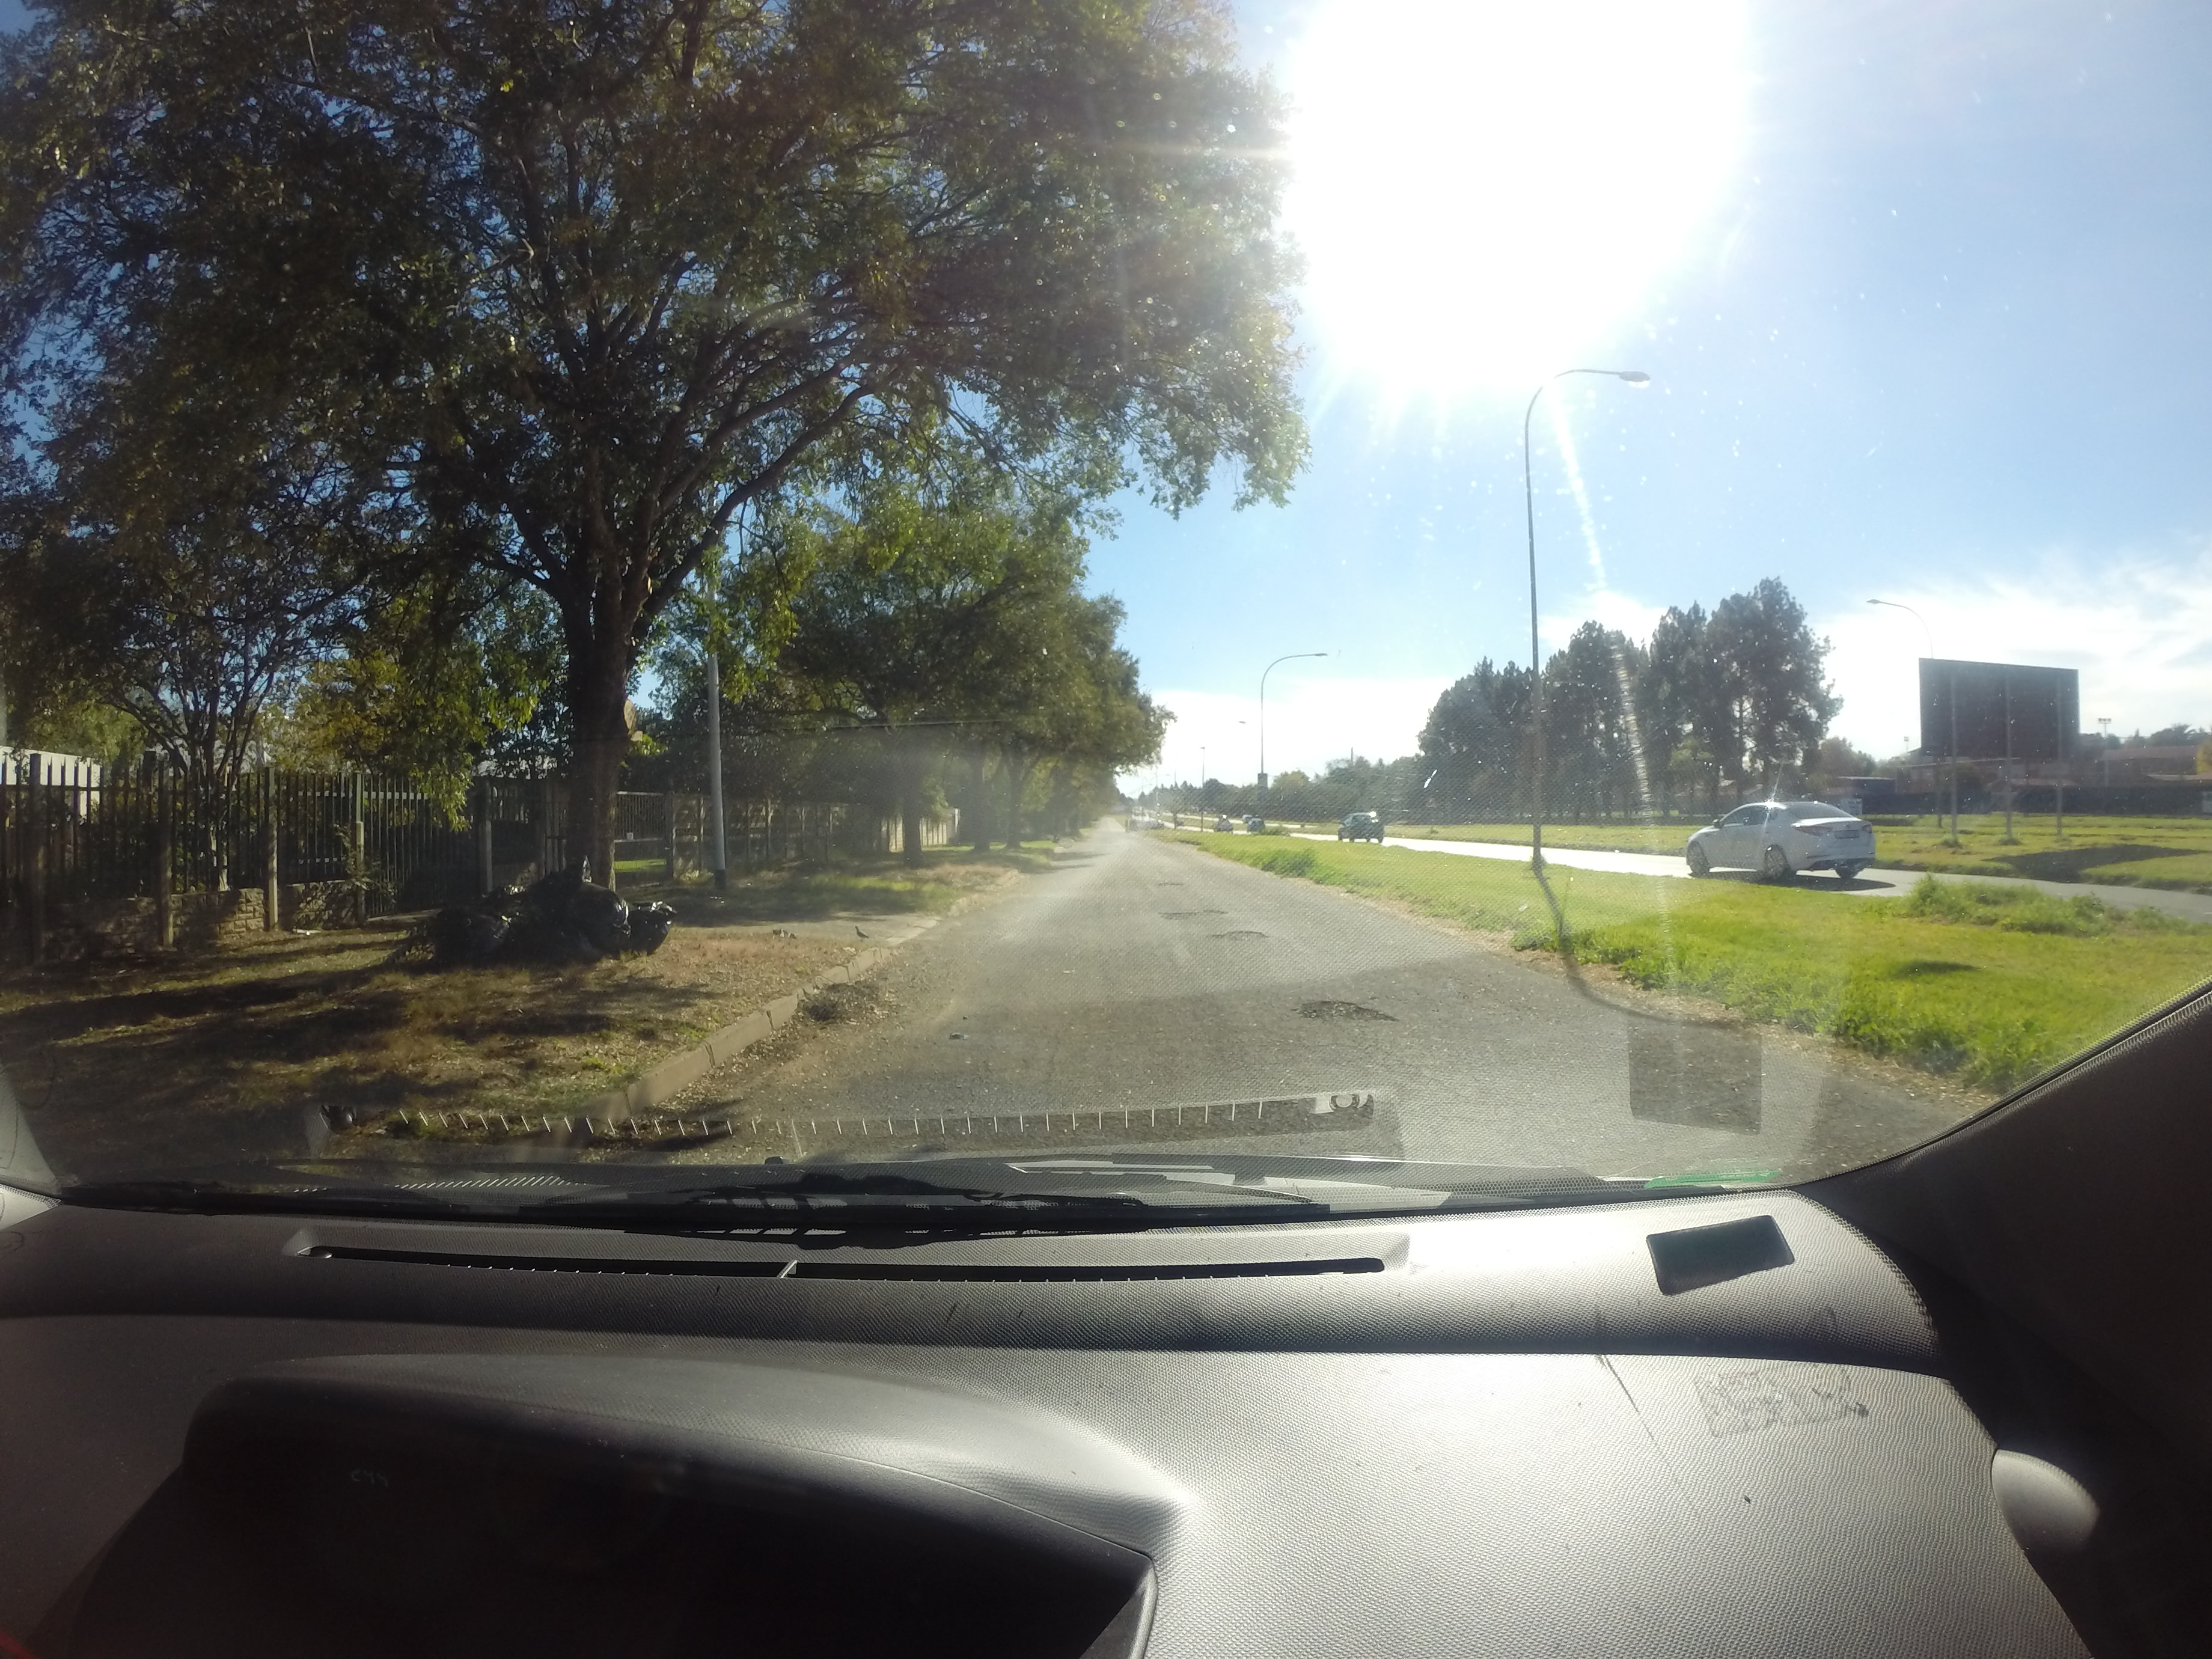pothole: (1277, 992, 1439, 1047)
